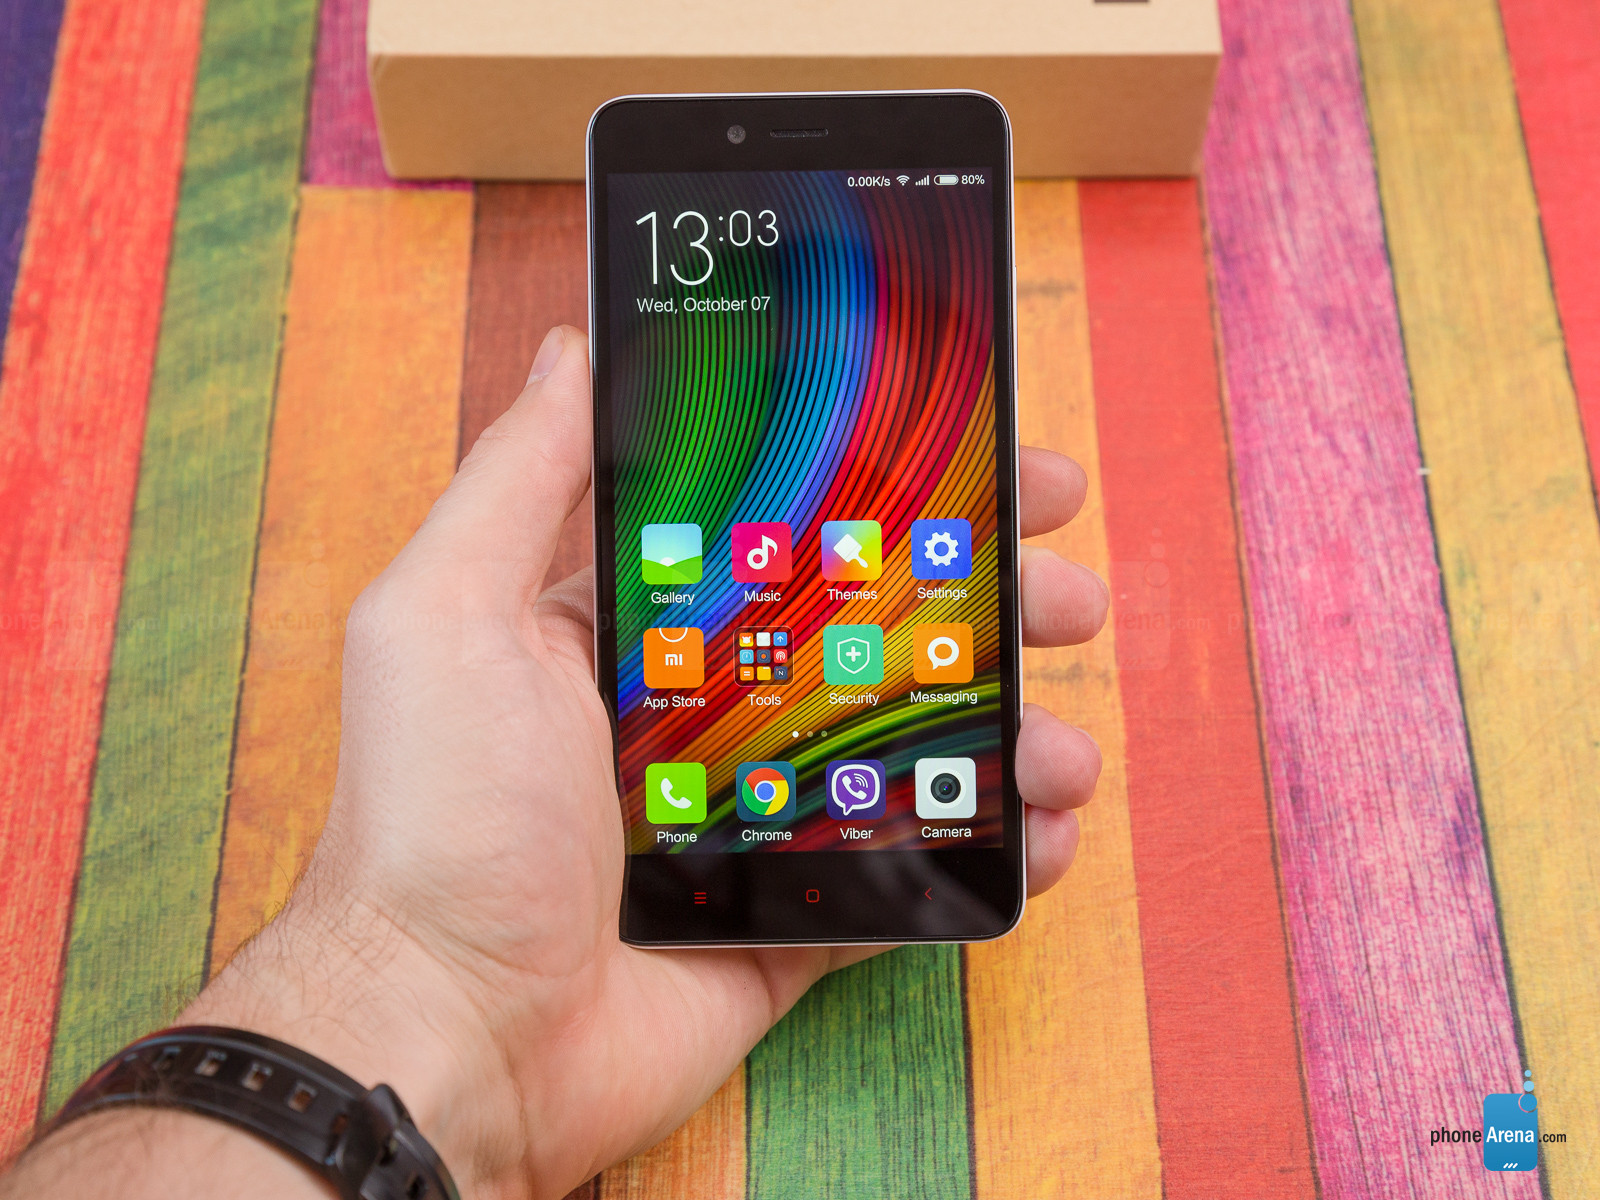smartphone: (586, 88, 1027, 950)
